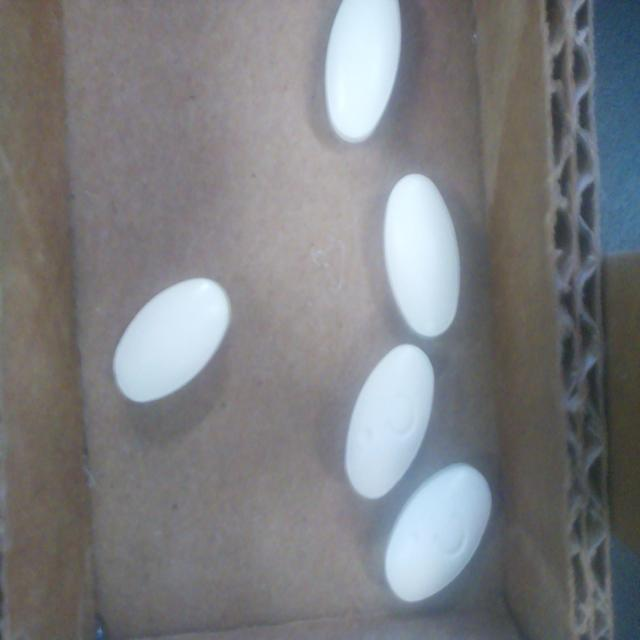pill: (385, 463, 491, 602), (113, 279, 231, 403), (345, 344, 434, 499), (384, 174, 460, 337), (324, 0, 401, 143)
